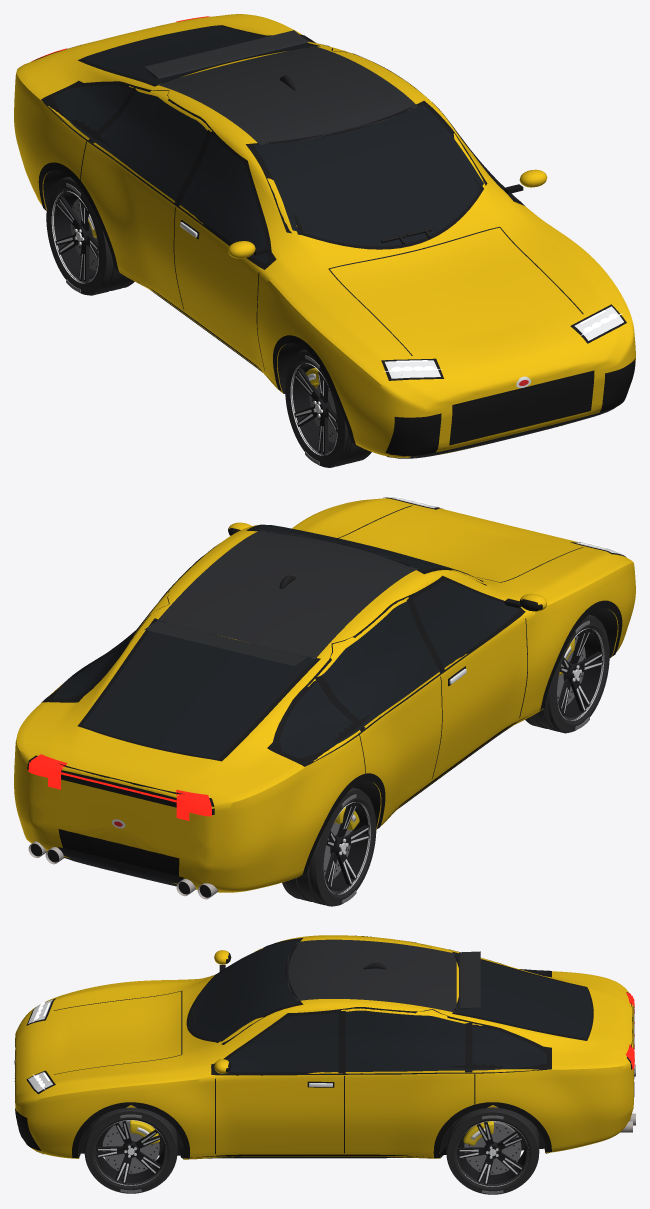
The model's file is urusp.glb.
3 renders of one model, top to bottom at view 1: azimuth 30°, elevation 25°; view 2: azimuth 150°, elevation 25°; view 3: azimuth 270°, elevation 25°, orthographic. The views are drawn at different scales.
Parts seen in each view (by area): view 1: Body, Wheel_RR, Wheel_FR; view 2: Body, Wheel_RR, Wheel_FR; view 3: Body, Wheel_RL, Wheel_FL.
Part boxes in pixels (x1,y1,x2,y2): Body: [14, 14, 635, 458]; Wheel_RR: [46, 176, 134, 295]; Wheel_FR: [285, 349, 371, 467]; Body: [14, 496, 635, 899]; Wheel_RR: [282, 787, 376, 906]; Wheel_FR: [525, 614, 609, 733]; Body: [14, 935, 635, 1159]; Wheel_RL: [446, 1107, 539, 1194]; Wheel_FL: [84, 1107, 177, 1193].
Bounding box in the file's own units: 2.32 × 1.67 × 5.16.
